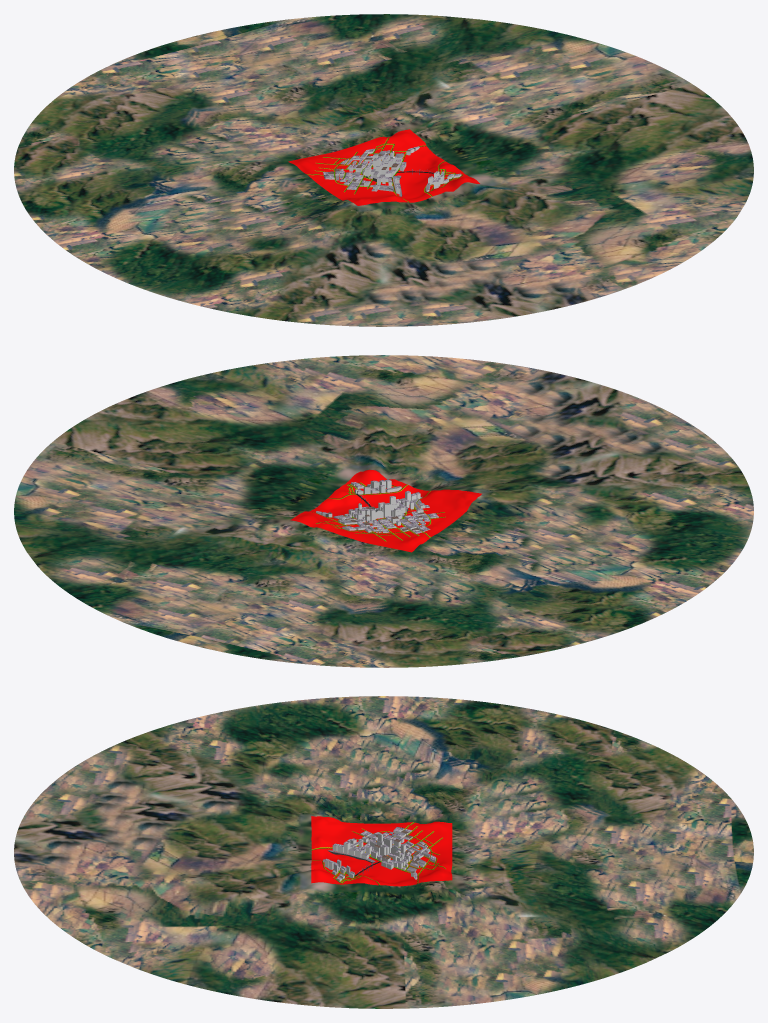
Rendered from land.dae.
3 views of the same model, one above another, from view 1: azimuth 30°, elevation 25°; view 2: azimuth 150°, elevation 25°; view 3: azimuth 270°, elevation 25° (orthographic).
Parts seen in each view (by area): view 1: _-ground, _-buildings; view 2: _-ground, _-buildings; view 3: _-ground, _-buildings.
Boxes of the visible parts, bbox=[...] form: _-ground: bbox=[14, 14, 753, 326]; _-buildings: bbox=[323, 146, 461, 194]; _-ground: bbox=[14, 355, 753, 667]; _-buildings: bbox=[316, 479, 438, 533]; _-ground: bbox=[14, 696, 753, 1008]; _-buildings: bbox=[323, 827, 435, 881].
Size of the model in its own units: 24.17 by 24.17 by 0.8379.
